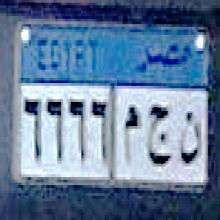6: (88, 94, 110, 169), (21, 90, 42, 168), (67, 93, 87, 169), (44, 94, 64, 164)
jeem: (146, 102, 172, 171)
meem: (120, 102, 142, 168)
noon: (178, 107, 201, 169)
